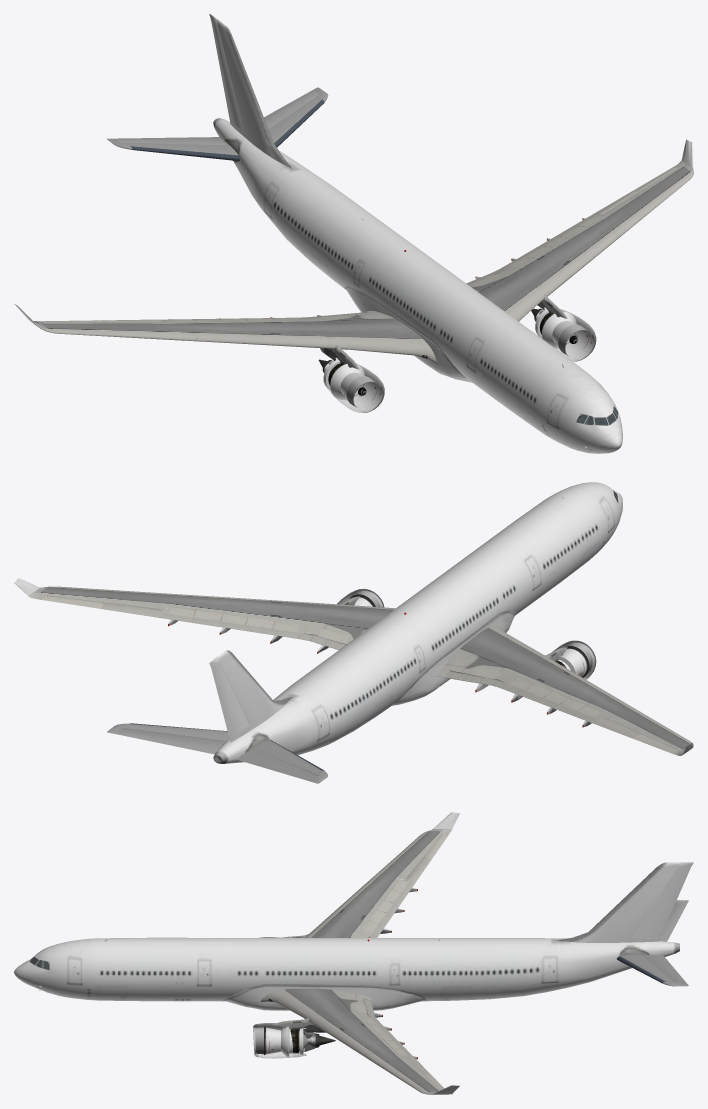
3 views of the same model, one above another, from view 1: azimuth 30°, elevation 25°; view 2: azimuth 150°, elevation 25°; view 3: azimuth 270°, elevation 25° (orthographic). The views are drawn at different scales.
Visible parts, largest first — view 1: rudder, RightGearRodDoor, hstab, ge.nacelle1, ge.rim1, ge.exhaust.001; view 2: rudder, RightGearRodDoor, hstab, spoiler1.3, ge.rim1, ge.nacelle1; view 3: rudder, RightGearRodDoor, hstab, ge.nacelle1, ge.rim1, spoiler1.3, ge.exhaust.001.
Part boxes in pixels (x1,y1,x2,y2): rudder: (209, 14, 622, 453); RightGearRodDoor: (31, 160, 693, 364); hstab: (107, 87, 328, 161); ge.nacelle1: (323, 307, 595, 412); ge.rim1: (14, 139, 693, 453); ge.exhaust.001: (318, 294, 567, 369); rudder: (209, 482, 622, 763); RightGearRodDoor: (28, 586, 693, 755); hstab: (107, 723, 327, 783); spoiler1.3: (220, 613, 568, 704); ge.rim1: (14, 490, 693, 755); ge.nacelle1: (337, 591, 590, 679); rudder: (27, 862, 693, 1010); RightGearRodDoor: (261, 829, 451, 1094); hstab: (617, 900, 688, 986); ge.nacelle1: (256, 937, 306, 1058); ge.rim1: (14, 812, 459, 1094); spoiler1.3: (362, 900, 393, 1040); ge.exhaust.001: (272, 934, 335, 1045).
Bounding box in the file's own units: 59.91 × 15.52 × 63.05.
Materials: 15 (12 with a texture image).
